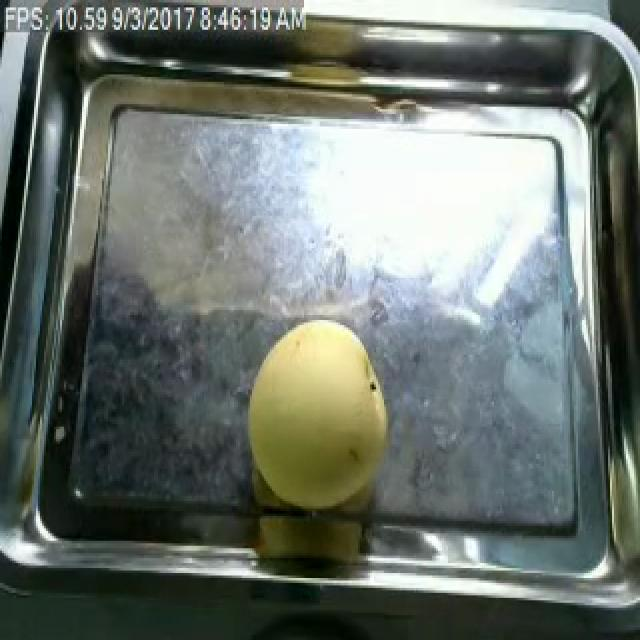Fruit: (236, 310, 404, 516)
